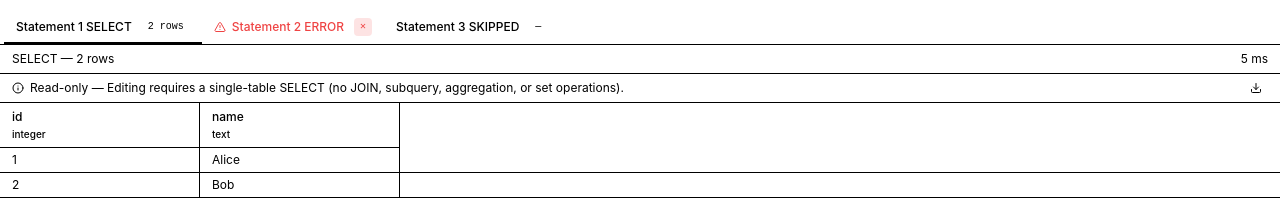
QueryResultGrid — multi-statement (sprint 100) › stop-on-error → skipped tab is muted and explains it was not executed
The width and height of the screenshot is (1280, 215).
Press the mouse on the tab "Statement 3 SKIPPED —" at (472, 28), box [384,12,559,44]
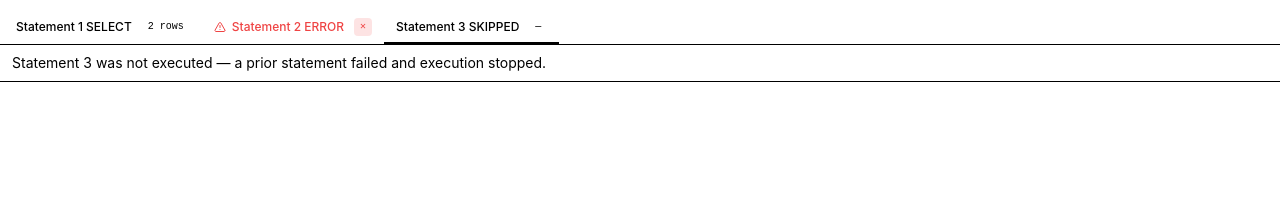
Result: the text "Statement 3 was not executed — a prior statement failed and execution stopped." is shown at [0,45,1279,82]
